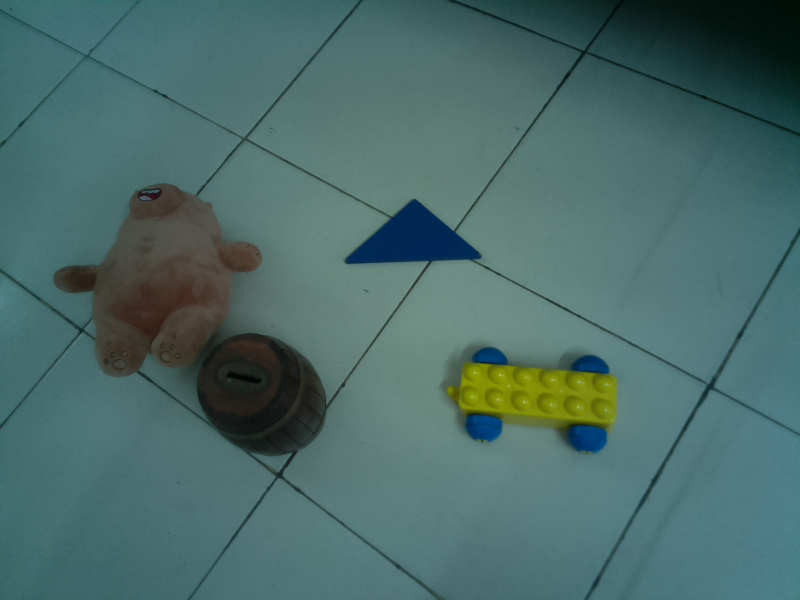Triangle: (340, 195, 485, 268)
toy_Car: (442, 341, 616, 457)
